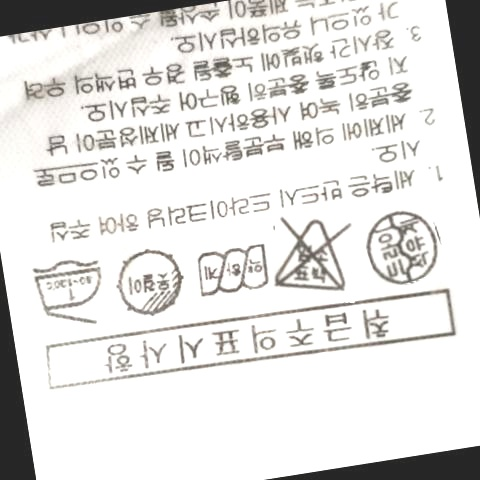dry_clean_petrol_only: (368, 204, 440, 289)
iron_low: (34, 255, 111, 325)
line_dry_in_shade: (115, 243, 193, 322)
non_chlorine_bleach: (278, 217, 354, 293)
wring: (197, 238, 272, 303)
